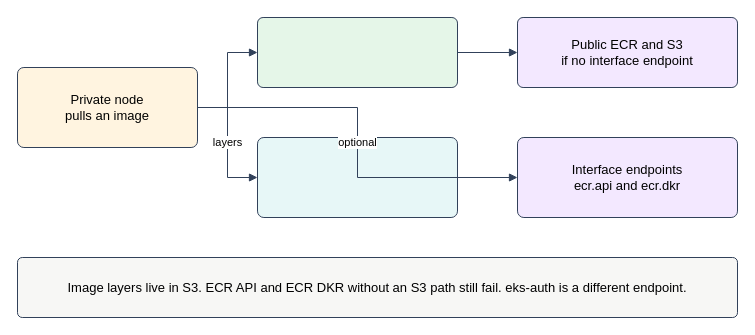
This 755x335 diagram has some shape labels left out. The centre of each missing label's shape, as x and y in pixels:
"NAT gateway 0.0.0.0/0 route" goes at [357,52].
"S3 gateway endpoint prefix list, no hourly fee" goes at [357,177].
